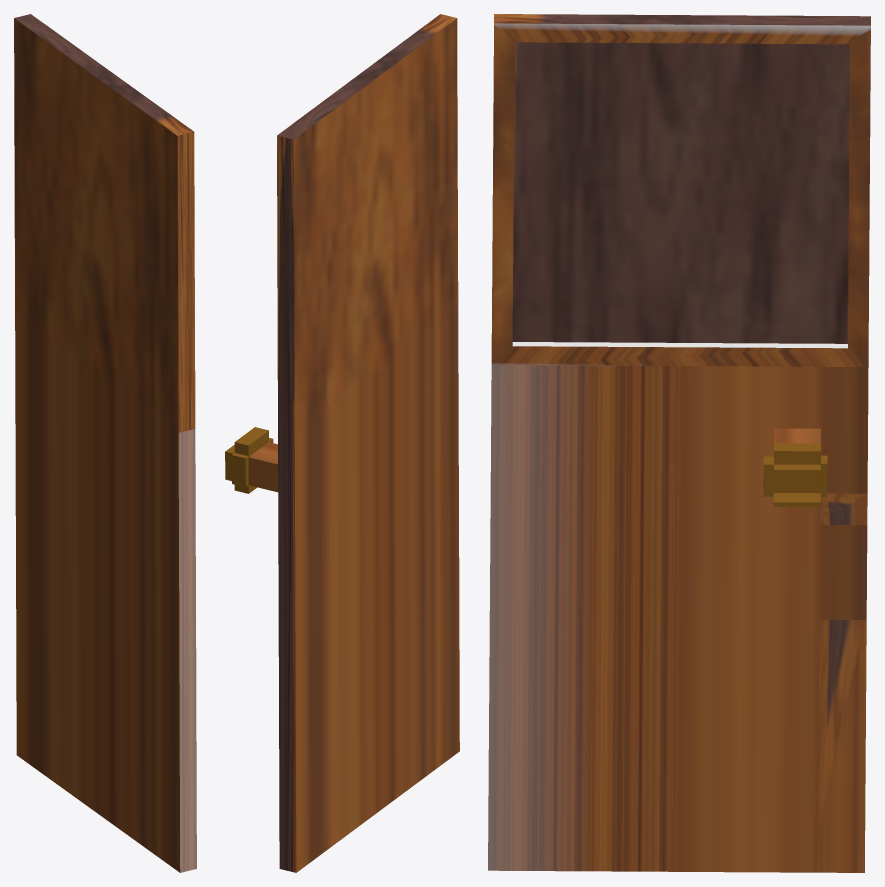
Rendered from door.fbx.
The picture shows the model from 3 angles, left to right: view 1: azimuth 30°, elevation 25°; view 2: azimuth 150°, elevation 25°; view 3: azimuth 270°, elevation 25°; orthographic projection. The views are drawn at different scales.
Visible parts, largest first — view 1: Cube; view 2: Cube; view 3: Cube.
Boxes of the visible parts, <box> form: Cube: <box>14,14,196,872</box>; Cube: <box>225,14,459,872</box>; Cube: <box>488,14,870,872</box>.
Bounding box in the file's own units: 51.58 × 402 × 164.
